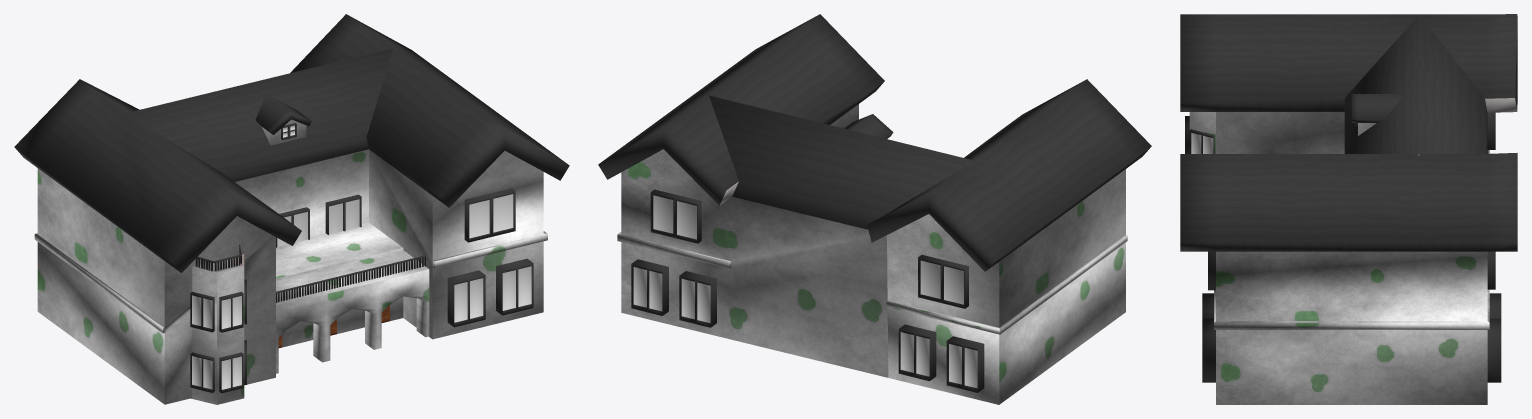
Rendered from House5.fbx.
3 renders of one model, left to right at view 1: azimuth 30°, elevation 25°; view 2: azimuth 150°, elevation 25°; view 3: azimuth 270°, elevation 25°, orthographic. The views are drawn at different scales.
Parts seen in each view (by area): view 1: 全体の建物, バルコニー, 左棟正面窓, 右棟出窓, 右棟正面窓, 右棟右窓, バルコニーの柵, 屋根裏部屋, バルコニー右ドア, バルコニー正面ドア, 右棟バルコニー柵; view 2: 全体の建物, 左後方窓, 右後方窓, 屋根裏部屋; view 3: 全体の建物, 右後方窓, 左棟正面窓, 屋根裏部屋, 右棟出窓, 右棟左窓, 左後方窓.
Boxes of the visible parts, box(x1,y1,x2,y2) form: 全体の建物: box(14, 14, 569, 404); バルコニー: box(276, 250, 429, 373); 左棟正面窓: box(447, 188, 533, 327); 右棟出窓: box(191, 254, 244, 404); 右棟正面窓: box(219, 292, 243, 393); 右棟右窓: box(190, 292, 214, 392); バルコニーの柵: box(276, 255, 425, 302); 屋根裏部屋: box(255, 95, 311, 145); バルコニー右ドア: box(325, 194, 361, 234); バルコニー正面ドア: box(276, 207, 309, 247); 右棟バルコニー柵: box(195, 245, 241, 271); 全体の建物: box(598, 14, 1151, 404); 左後方窓: box(898, 255, 984, 392); 右後方窓: box(631, 189, 716, 327); 屋根裏部屋: box(844, 114, 893, 139); 全体の建物: box(1180, 14, 1517, 404); 右後方窓: box(1487, 251, 1501, 382); 左棟正面窓: box(1202, 251, 1215, 382); 屋根裏部屋: box(1351, 94, 1401, 135); 右棟出窓: box(1189, 112, 1215, 153); 右棟左窓: box(1189, 129, 1214, 153); 左後方窓: box(1487, 112, 1495, 149).
Size of the model in its own units: 22.2 by 11.18 by 15.26.
Materials: 1 (1 with a texture image).
